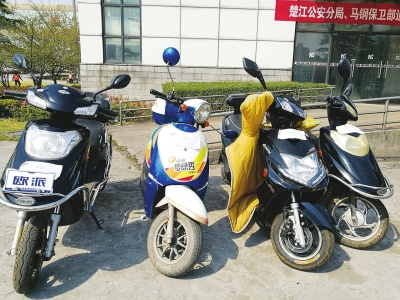non-vehicle: (1, 84, 118, 295), (217, 94, 334, 271), (138, 89, 215, 278), (319, 84, 390, 250)
